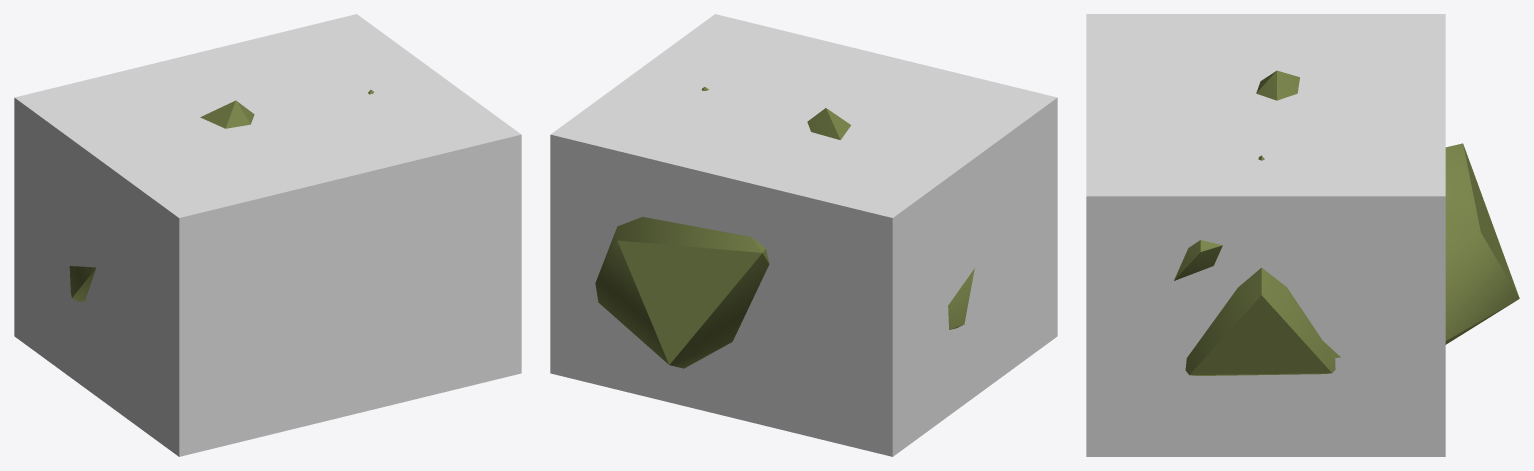
Rendered from bush_b.glb.
3 views of the same model, side by side, from view 1: azimuth 30°, elevation 25°; view 2: azimuth 150°, elevation 25°; view 3: azimuth 270°, elevation 25° (orthographic). The views are drawn at different scales.
Visible parts, largest first — view 1: bush-convcol, bush_mesh; view 2: bush-convcol, bush_mesh; view 3: bush-convcol, bush_mesh.
Part boxes in pixels (x1,y1,x2,y2): bush-convcol: (14,14,521,456); bush_mesh: (69,90,373,301); bush-convcol: (550,14,1057,456); bush_mesh: (595,87,974,368); bush-convcol: (1086,14,1445,456); bush_mesh: (1174,70,1519,375).
Bounding box in the file's own units: 1.29 × 0.8622 × 1.21.
